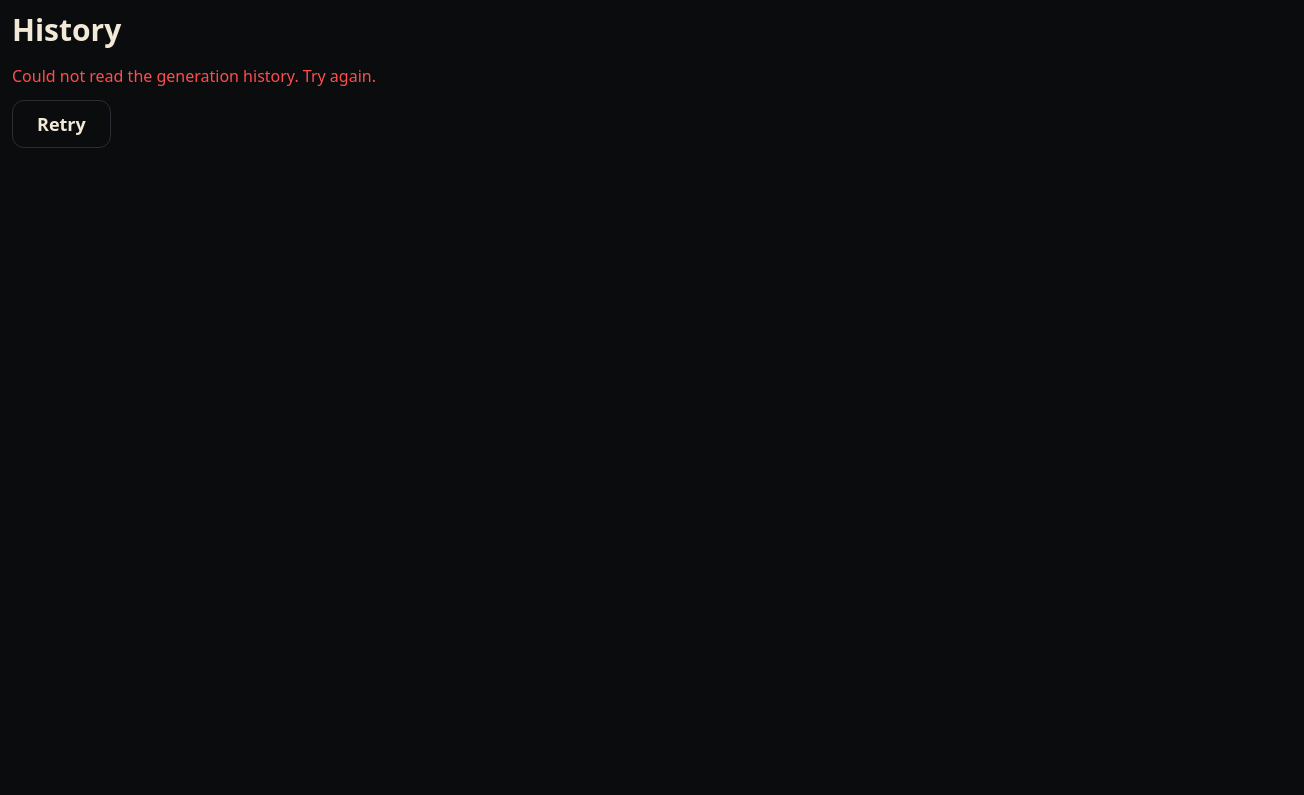
Test: AdminHistory › shows the error with Retry when the history cannot load, then loads it
Expected: the message reads "Could not read the generation history. Try again.", [12, 65, 376, 87]
Step 1. Click the button "Retry" → [61, 124], box [12, 100, 111, 148]
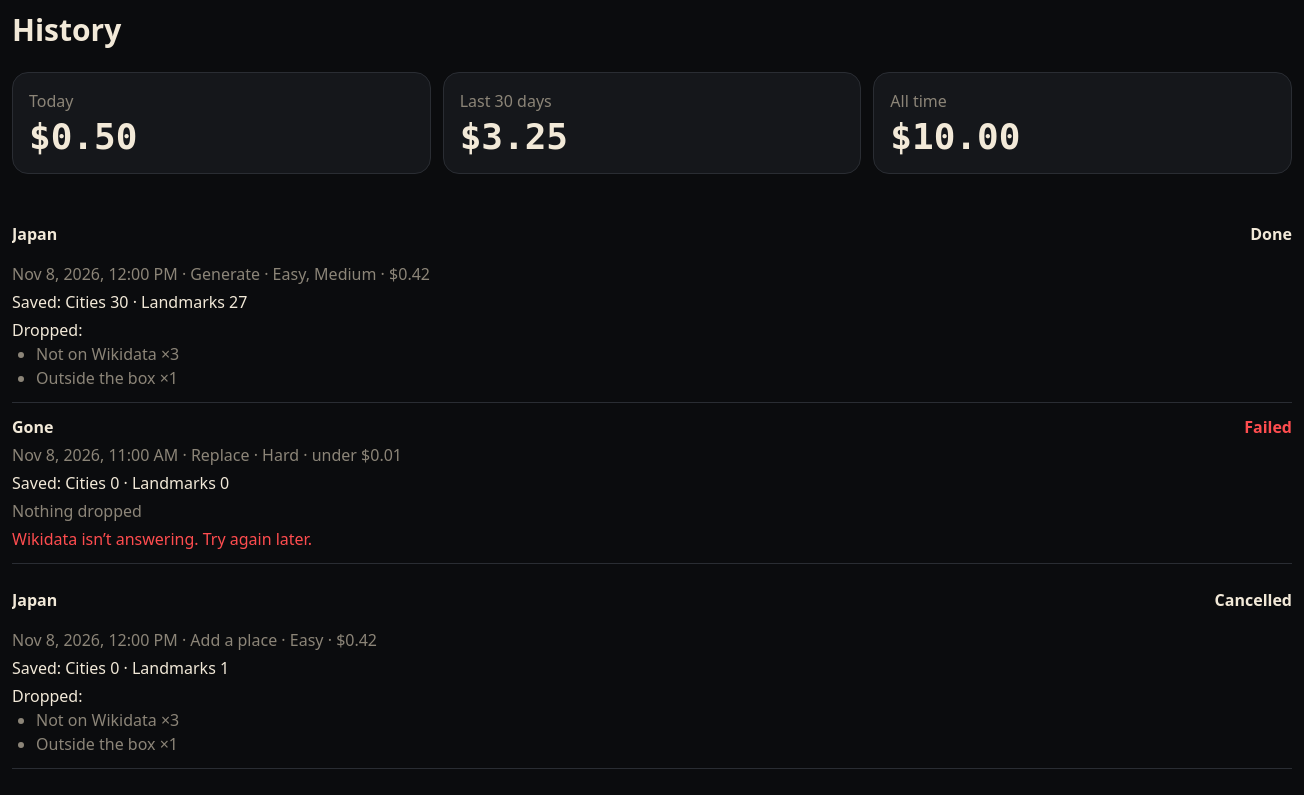
Expected: the list named "Generations" is shown
